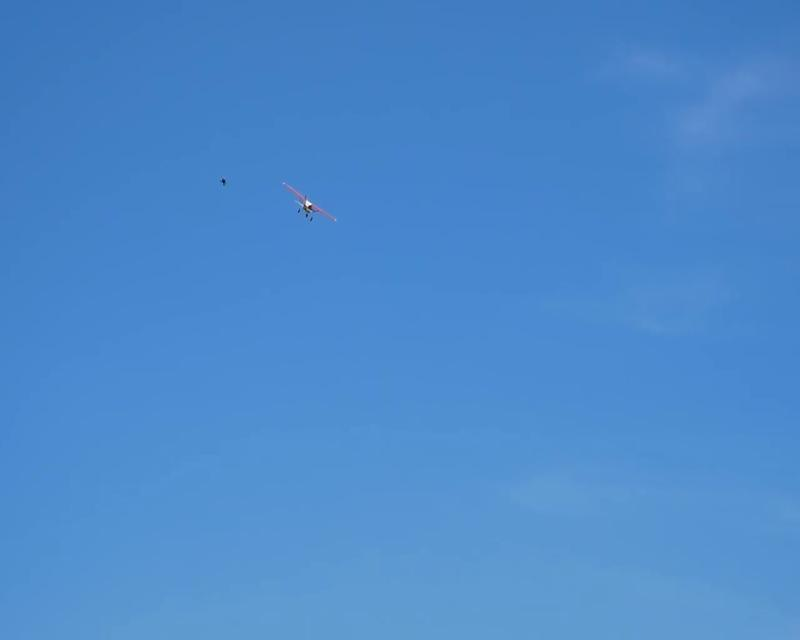UAV: (281, 182, 339, 225)
